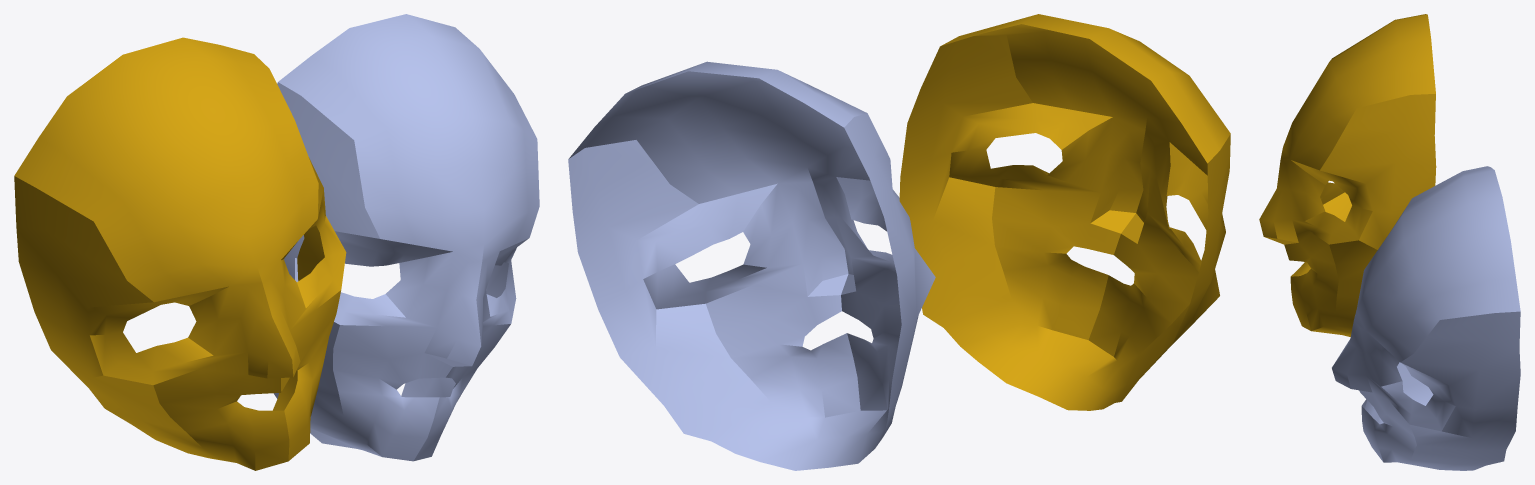
File: RMuoeusyTIH6WQyZq8dA4.glb
3 views of the same model, side by side, from view 1: azimuth 30°, elevation 25°; view 2: azimuth 150°, elevation 25°; view 3: azimuth 270°, elevation 25° (orthographic). The views are drawn at different scales.
Parts seen in each view (by area): view 1: Head.002; view 2: Head.002; view 3: Head.002.
Part boxes in pixels (x1=…): Head.002: x1=14, y1=14, x2=539, y2=470; Head.002: x1=568, y1=14, x2=1230, y2=470; Head.002: x1=1259, y1=14, x2=1520, y2=470.
Size of the model in its own units: 2.6 by 2.12 by 1.41.
